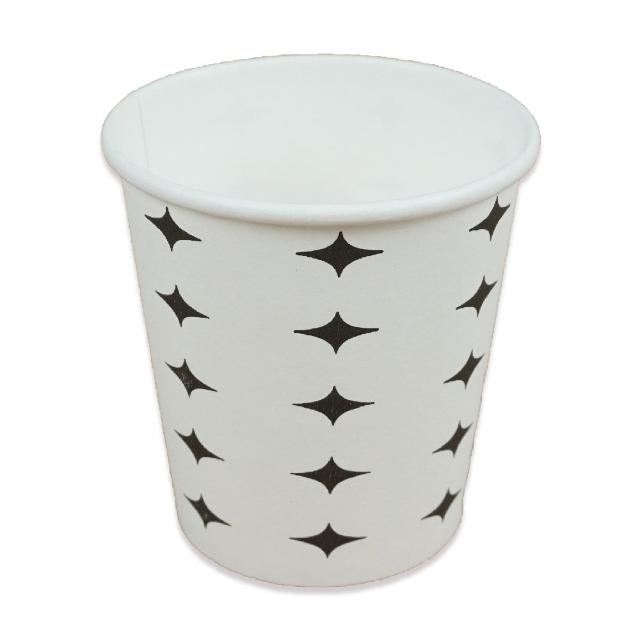trash: (79, 50, 593, 608)
